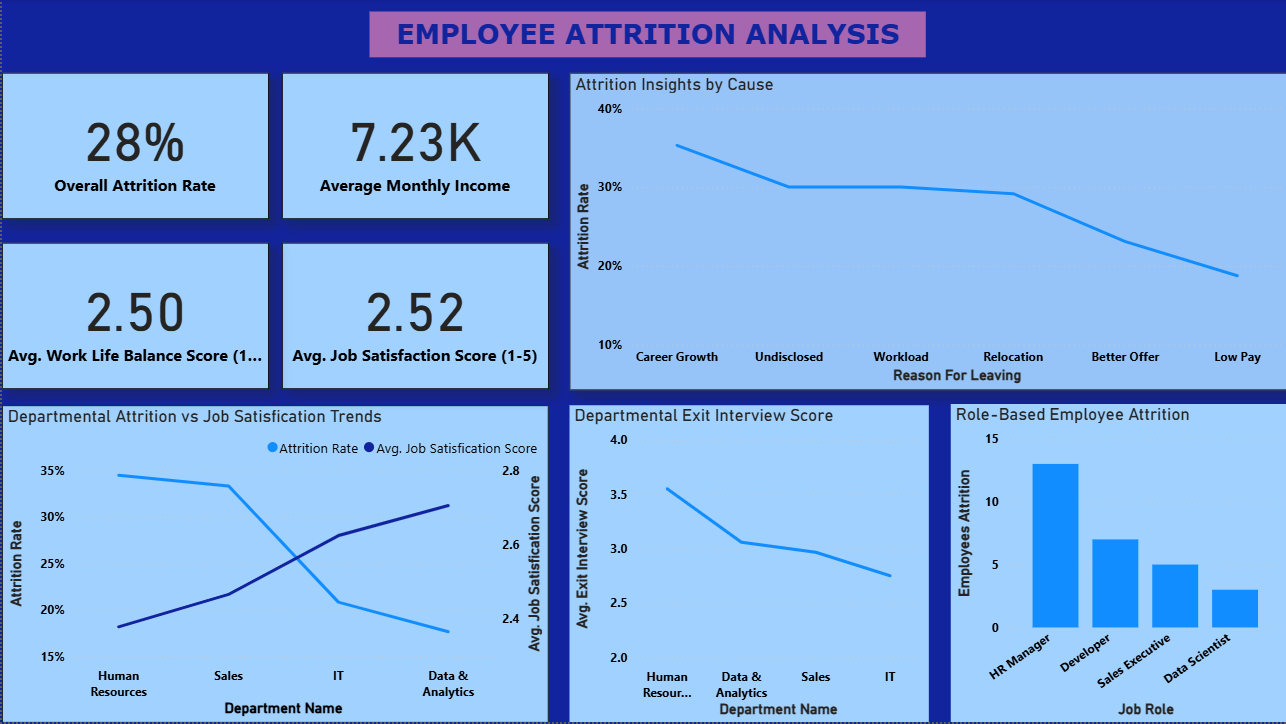

This screenshot's page, from the dashboard's own definition file:
{"tool":"powerbi","page":{"name":"Page 1","canvas":[1280,720],"ordinal":0},"visuals":[{"type":"card","title":"fg","fields":{"Values":["Attrition.Attrition Rate"]},"box":[0,72.9,265.6,145.7],"z":0},{"type":"lineChart","title":"Attrition Insights by Cause","fields":{"Category":["Attrition.Reason For Leaving"],"Y":["Attrition.Attrition Rate"]},"box":[565.1,72.9,715.7,315.7],"z":1000},{"type":"lineChart","title":"Departmental Attrition vs Job Satisfication Trends","fields":{"Y":["Attrition.Attrition Rate"],"Y2":["Avg(Employees.Job Satisfaction)"],"Category":["Departments.Department Name"]},"box":[0,404.8,544.1,315.7],"z":2000},{"type":"card","fields":{"Values":["Avg(Employees.Job Satisfaction)"]},"box":[278.5,242.9,265.6,145.7],"z":3000},{"type":"card","fields":{"Values":["Avg(Employees.Work Life Balance)"]},"box":[0,242.9,265.6,145.7],"z":4000},{"type":"card","fields":{"Values":["Avg(Employees.Monthly Income)"]},"box":[278.5,72.9,265.6,145.7],"z":5000},{"type":"textbox","box":[365.9,13,553.8,45.3],"z":7001},{"type":"lineChart","title":"Departmental Exit Interview Score","fields":{"Y":["Avg(Attrition.Exit Interview Score)"],"Category":["Departments.Department Name"]},"box":[565.1,404.8,357.8,315.7],"z":7002},{"type":"columnChart","title":"Role-Based Employee Attrition","fields":{"Category":["Employees.Job Role"],"Y":["Attrition.Employees Left"]},"box":[944,403.2,336.8,317.4],"z":7003}]}

Visuals, with their boxes in screenshot pixels (x1, y1, x2, y2), scaled from the page's 1280x720 canvas onto the 1286x724 screenshot:
"fg" card: crop(0, 73, 267, 220)
"Attrition Insights by Cause" lineChart: crop(568, 73, 1285, 391)
"Departmental Attrition vs Job Satisfication Trends" lineChart: crop(0, 407, 547, 723)
card - Avg(Employees.Job Satisfaction): crop(280, 244, 547, 391)
card - Avg(Employees.Work Life Balance): crop(0, 244, 267, 391)
card - Avg(Employees.Monthly Income): crop(280, 73, 547, 220)
textbox: crop(368, 13, 924, 59)
"Departmental Exit Interview Score" lineChart: crop(568, 407, 927, 723)
"Role-Based Employee Attrition" columnChart: crop(948, 405, 1285, 723)
